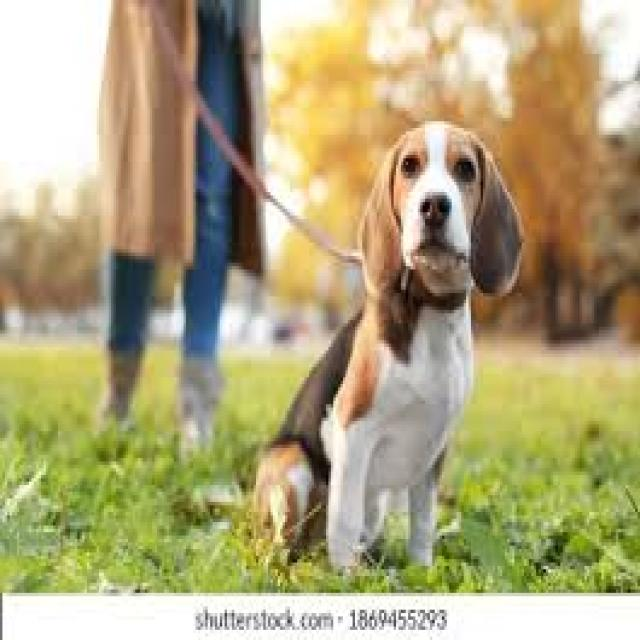Dog: (248, 119, 526, 574)
